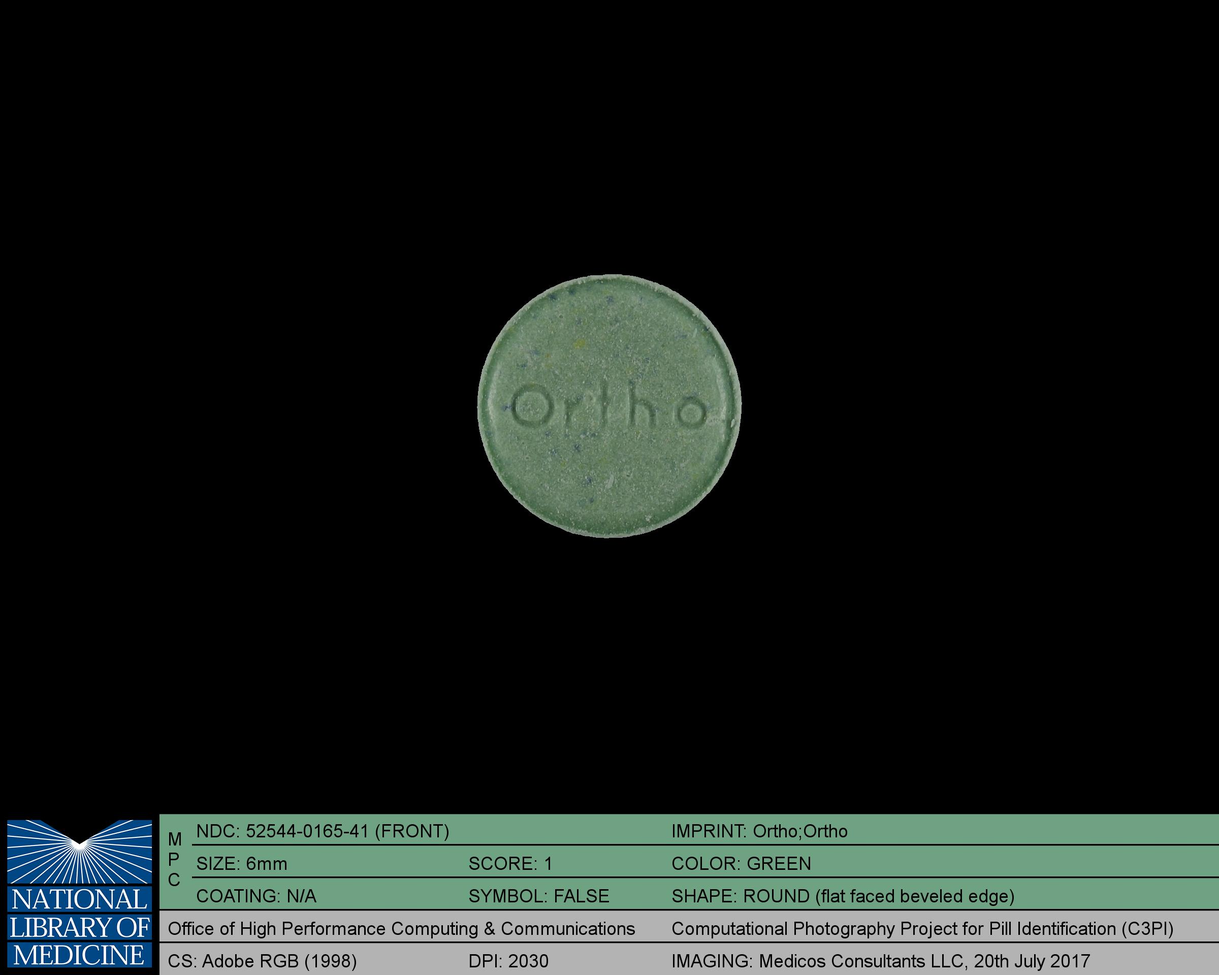Pill: (467, 262, 752, 545)
